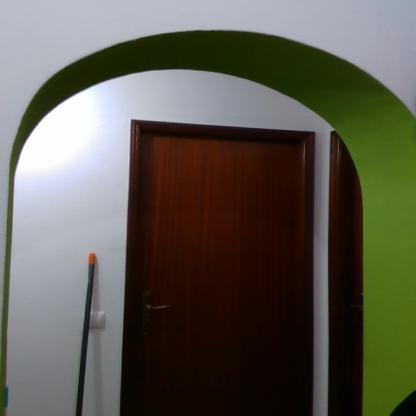door: (133, 131, 312, 415)
lever: (145, 303, 170, 313)
